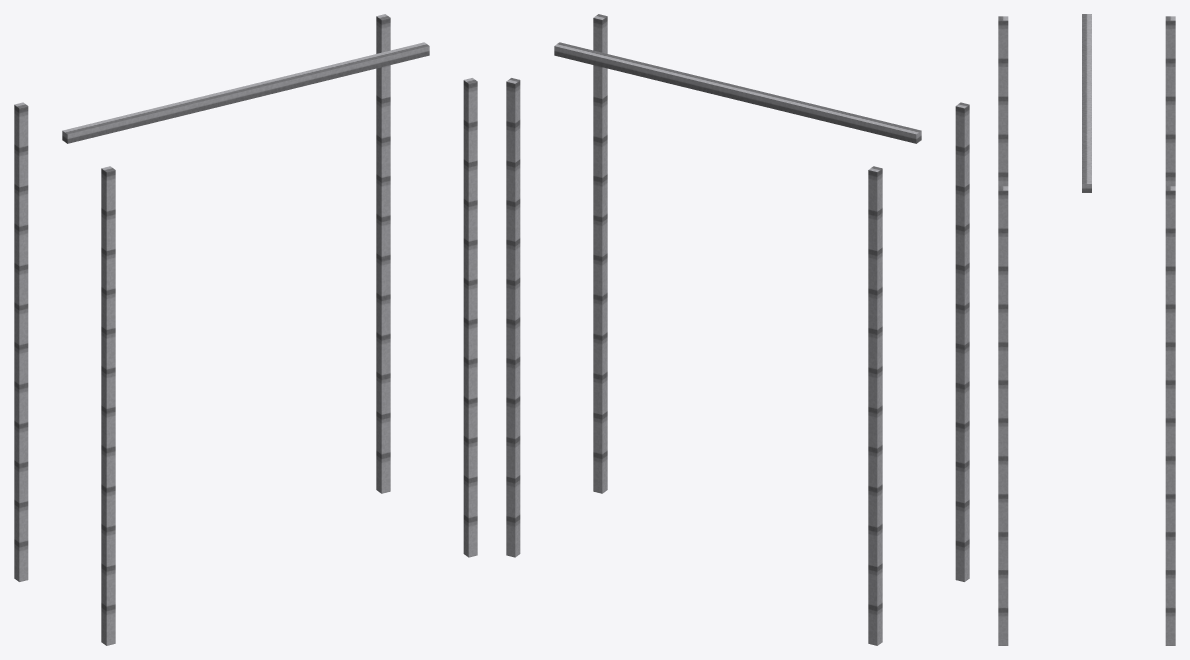
Rendered from clothing_rack.glb.
3 views of the same model, side by side, from view 1: azimuth 30°, elevation 25°; view 2: azimuth 150°, elevation 25°; view 3: azimuth 270°, elevation 25° (orthographic). The views are drawn at different scales.
Visible parts, largest first — view 1: clothing_rack-col; view 2: clothing_rack-col; view 3: clothing_rack-col.
Part boxes in pixels (<box>): clothing_rack-col: <box>14,14,477,645</box>; clothing_rack-col: <box>506,14,969,645</box>; clothing_rack-col: <box>998,14,1175,645</box>.
Size of the model in its own units: 1.23 by 1.51 by 0.53.
1 material, 1 textured.
